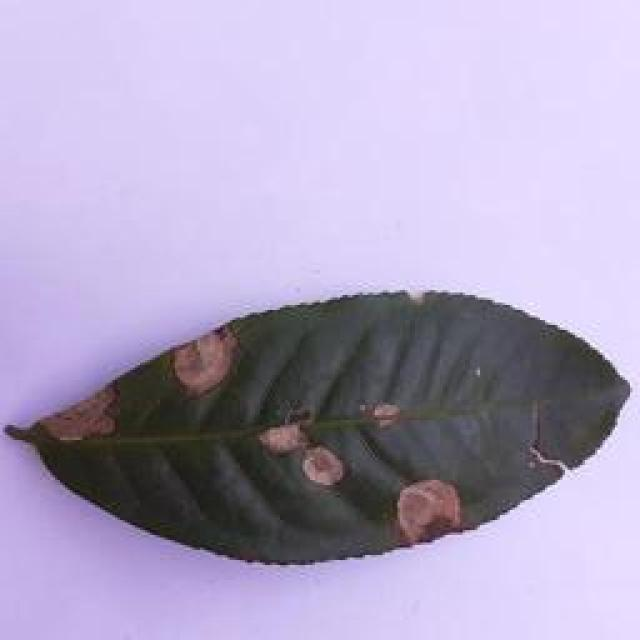Gray Blight: (3, 284, 634, 571)
